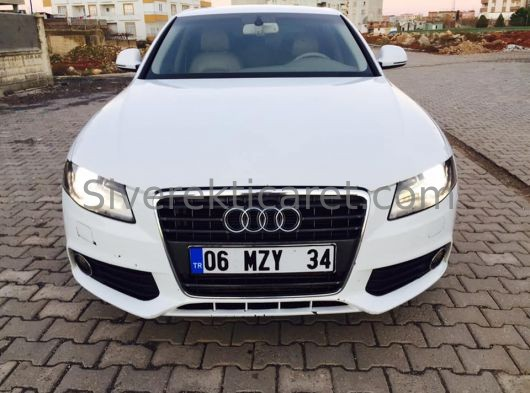audi: (220, 206, 302, 235)
